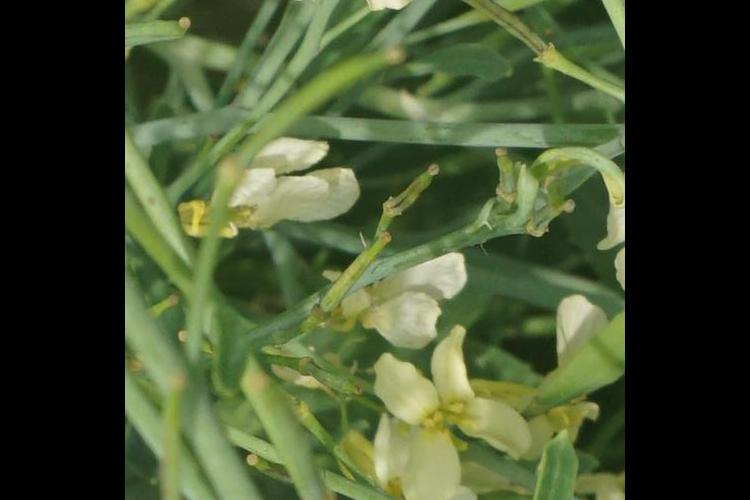pod: (217, 31, 412, 178), (370, 1, 546, 78), (322, 217, 406, 331), (237, 449, 392, 500), (136, 344, 322, 383), (150, 365, 200, 500), (383, 145, 445, 237), (284, 349, 365, 410), (134, 1, 206, 62), (145, 280, 182, 334), (156, 1, 222, 16)
white: (355, 346, 518, 500), (208, 113, 361, 240), (325, 246, 466, 359)
